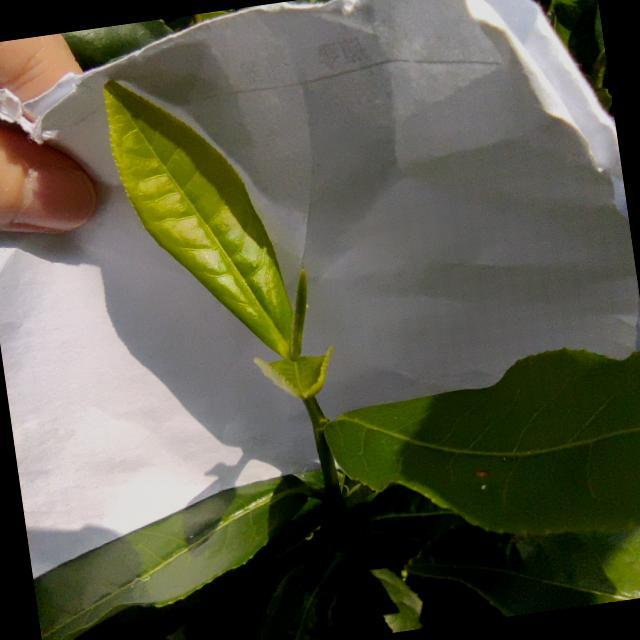Stem: (305, 399, 321, 415)
